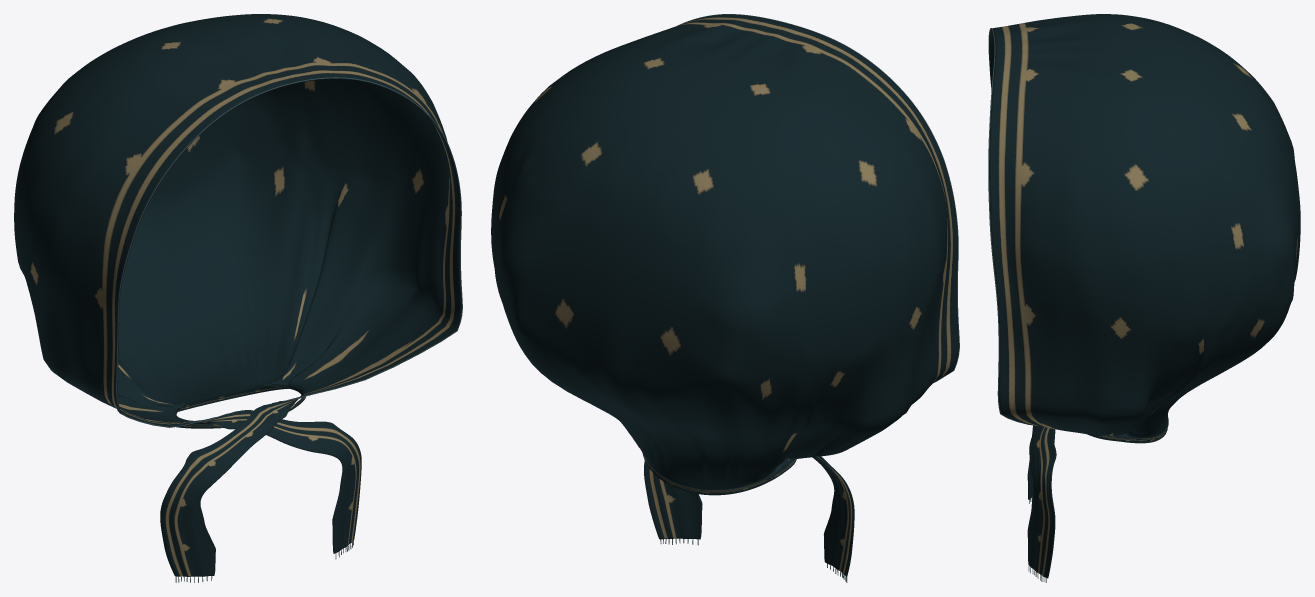
The model's file is Masculine-middle-part-tshirt-pashmina249-headgear.glb.
3 renders of one model, left to right at view 1: azimuth 30°, elevation 25°; view 2: azimuth 150°, elevation 25°; view 3: azimuth 270°, elevation 25°, orthographic. The views are drawn at different scales.
Visible parts, largest first — view 1: 226 headgear / Headwear / continuous woven pashmina239, 226 headgear / Headwear / face edge239; view 2: 226 headgear / Headwear / continuous woven pashmina239, 226 headgear / Headwear / face edge239; view 3: 226 headgear / Headwear / continuous woven pashmina239, 226 headgear / Headwear / face edge239.
Part boxes in pixels (x1=…): 226 headgear / Headwear / continuous woven pashmina239: x1=14, y1=14, x2=461, y2=576; 226 headgear / Headwear / face edge239: x1=116, y1=77, x2=462, y2=427; 226 headgear / Headwear / continuous woven pashmina239: x1=491, y1=14, x2=958, y2=576; 226 headgear / Headwear / face edge239: x1=677, y1=14, x2=959, y2=382; 226 headgear / Headwear / continuous woven pashmina239: x1=989, y1=14, x2=1300, y2=578; 226 headgear / Headwear / face edge239: x1=988, y1=28, x2=1032, y2=425.
Bounding box in the file's own units: 1.12 × 1.39 × 0.7917.
Materials: 3 (1 with a texture image).
